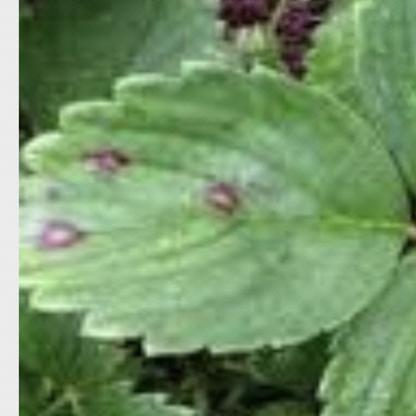Strawberry_Leaf_Spot: (17, 58, 411, 358)
